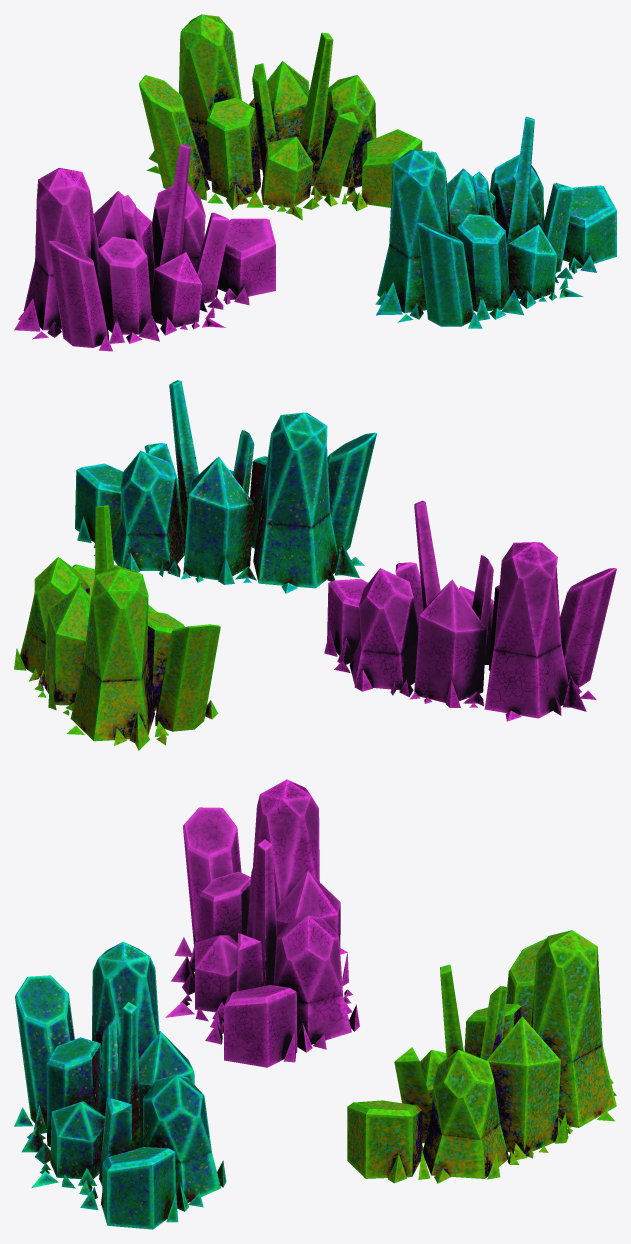
The model's file is Alien Ore.obj.
The picture shows the model from 3 angles, top to bottom: view 1: azimuth 30°, elevation 25°; view 2: azimuth 150°, elevation 25°; view 3: azimuth 270°, elevation 25°; orthographic projection. The views are drawn at different scales.
Visible parts, largest first — view 1: Alien_Ore_003, Alien_Ore_002, Alien_Ore_001; view 2: Alien_Ore_001, Alien_Ore_002, Alien_Ore_003; view 3: Alien_Ore_003, Alien_Ore_001, Alien_Ore_002.
Boxes of the visible parts, x1=… form: Alien_Ore_003: x1=139, y1=14, x2=422, y2=220; Alien_Ore_002: x1=14, y1=144, x2=275, y2=351; Alien_Ore_001: x1=375, y1=116, x2=616, y2=328; Alien_Ore_001: x1=75, y1=380, x2=376, y2=593; Alien_Ore_002: x1=324, y1=500, x2=616, y2=721; Alien_Ore_003: x1=14, y1=505, x2=220, y2=750; Alien_Ore_003: x1=347, y1=930, x2=616, y2=1183; Alien_Ore_001: x1=14, y1=941, x2=226, y2=1229; Alien_Ore_002: x1=165, y1=779, x2=359, y2=1067.
Size of the model in its own units: 18.09 by 4.93 by 15.18.
